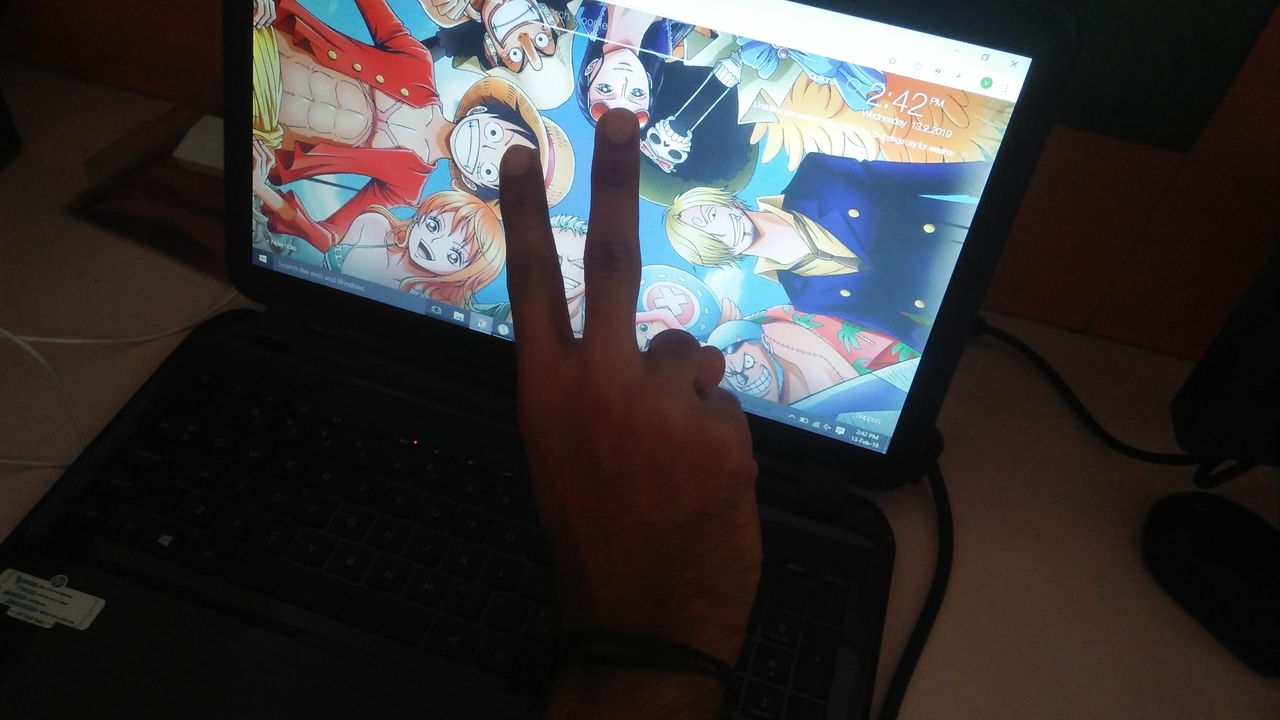fingertip: (486, 141, 552, 189), (588, 96, 642, 152)
